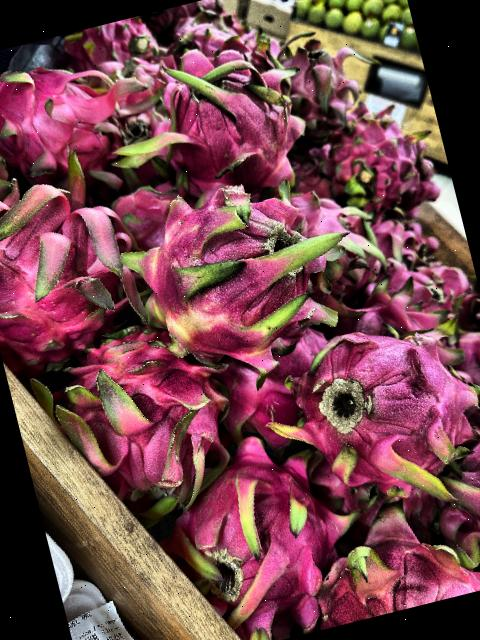buah-naga-belum-matang: (106, 157, 364, 396)
buah-naga-matang: (263, 300, 480, 525), (167, 421, 386, 640), (29, 316, 253, 528), (0, 160, 160, 384), (136, 31, 315, 210), (306, 471, 480, 626), (0, 38, 151, 202), (265, 16, 392, 146), (324, 106, 432, 220), (416, 423, 480, 595)
